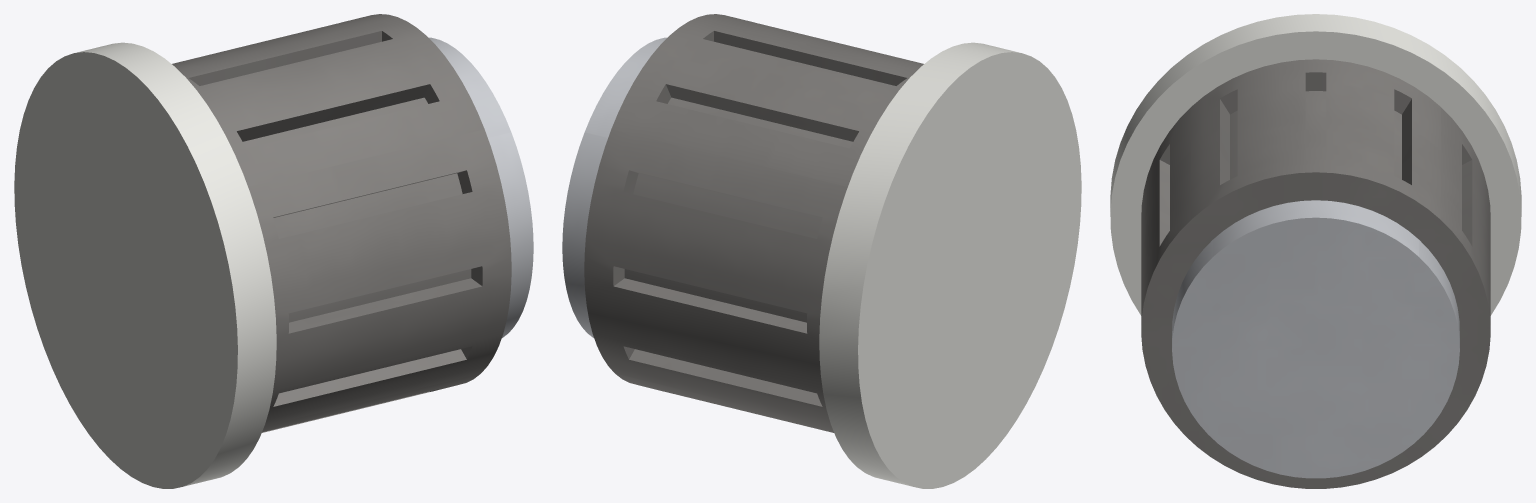
File: ax_rover_20_hub_motor.glb
3 views of the same model, side by side, from view 1: azimuth 30°, elevation 25°; view 2: azimuth 150°, elevation 25°; view 3: azimuth 270°, elevation 25° (orthographic). The views are drawn at different scales.
Visible parts, largest first — view 1: motor_housing, mount_flange, output_flange; view 2: motor_housing, mount_flange, output_flange; view 3: output_flange, motor_housing, mount_flange.
Boxes of the visible parts, box(x1,y1,x2,y2) form: motor_housing: box(172, 14, 511, 432); mount_flange: box(14, 42, 276, 488); output_flange: box(429, 37, 533, 337); motor_housing: box(584, 14, 923, 432); mount_flange: box(819, 42, 1081, 488); output_flange: box(562, 37, 666, 337); output_flange: box(1172, 200, 1459, 478); motor_housing: box(1141, 59, 1490, 488); mount_flange: box(1110, 14, 1521, 315).
Bounding box in the file's own units: 0.34 × 0.3998 × 0.3999.
Materials: 3 (2 with a texture image).
